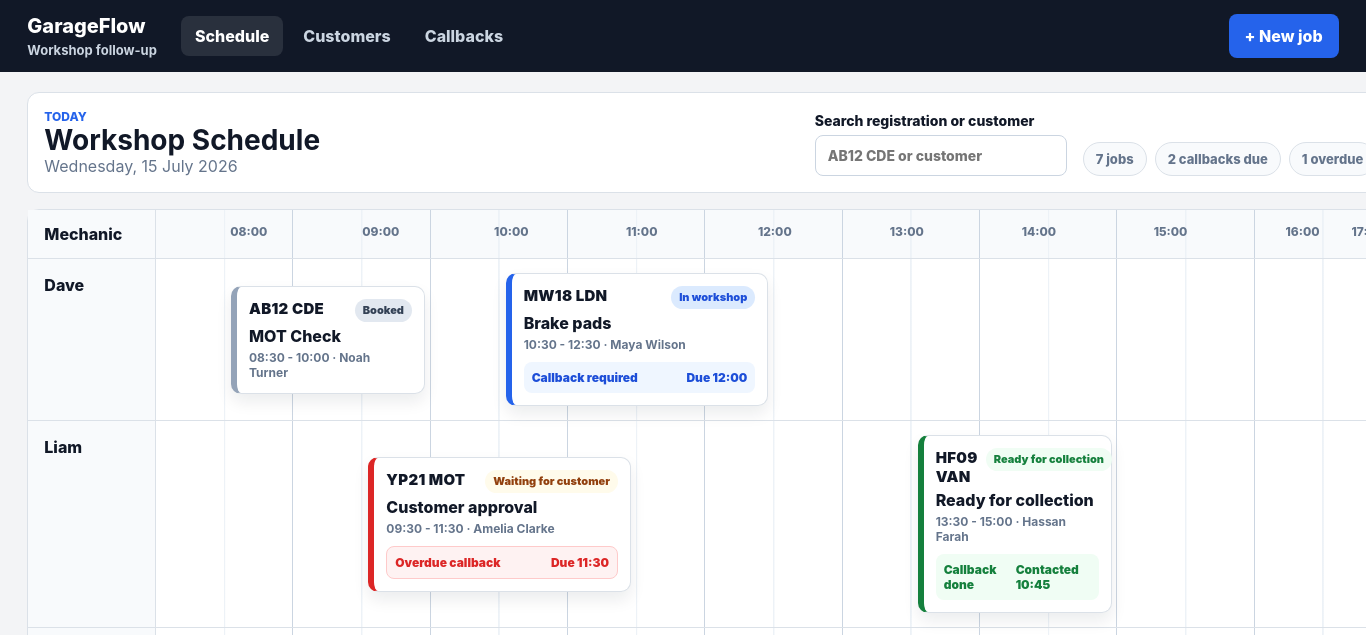
WorkshopTimeline › runs contextual status workflow actions
Expected: the header named "GarageFlow workspace" is shown, [0,0,1365,72]
Click the button "AB12 CDE Booked MOT Check 08:30 - 10:00 · Noah Turner". click: {"x": 330, "y": 339}
box: [249,299,412,380]
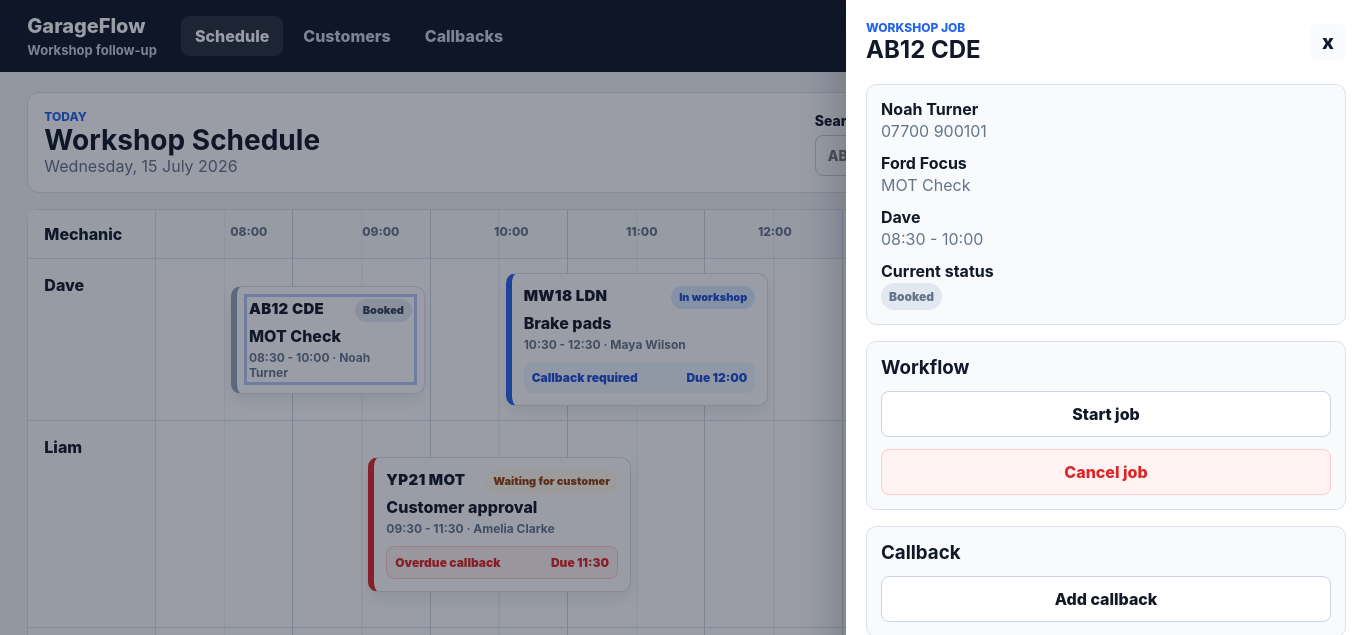
Click the button "Start job". click: {"x": 1106, "y": 414}
box: [881,391,1331,437]
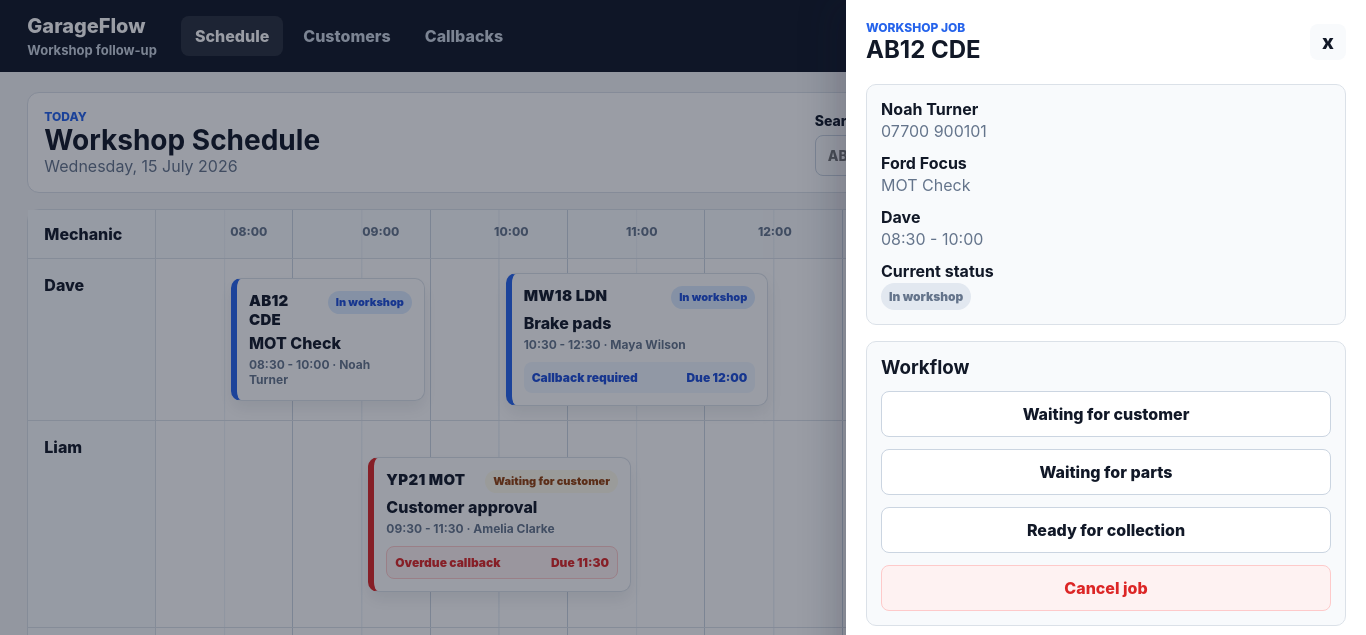
Result: the element named "Job details" shows "In workshop" at [889,289,963,304]
Click the button "Waiting for customer". click: {"x": 1106, "y": 414}
box: [881,391,1331,437]
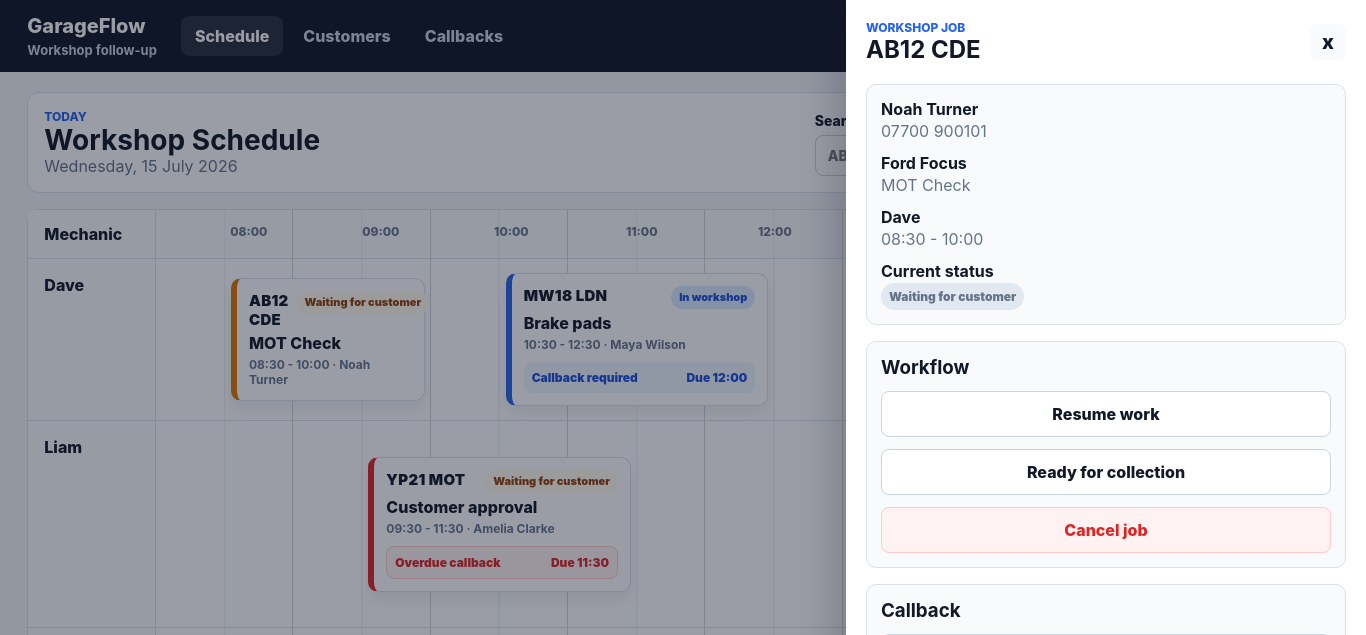
Result: the element named "Job details" shows "Waiting for customer" at [889,289,1016,304]
Click the button "Resume work". click: {"x": 1106, "y": 414}
box: [881,391,1331,437]
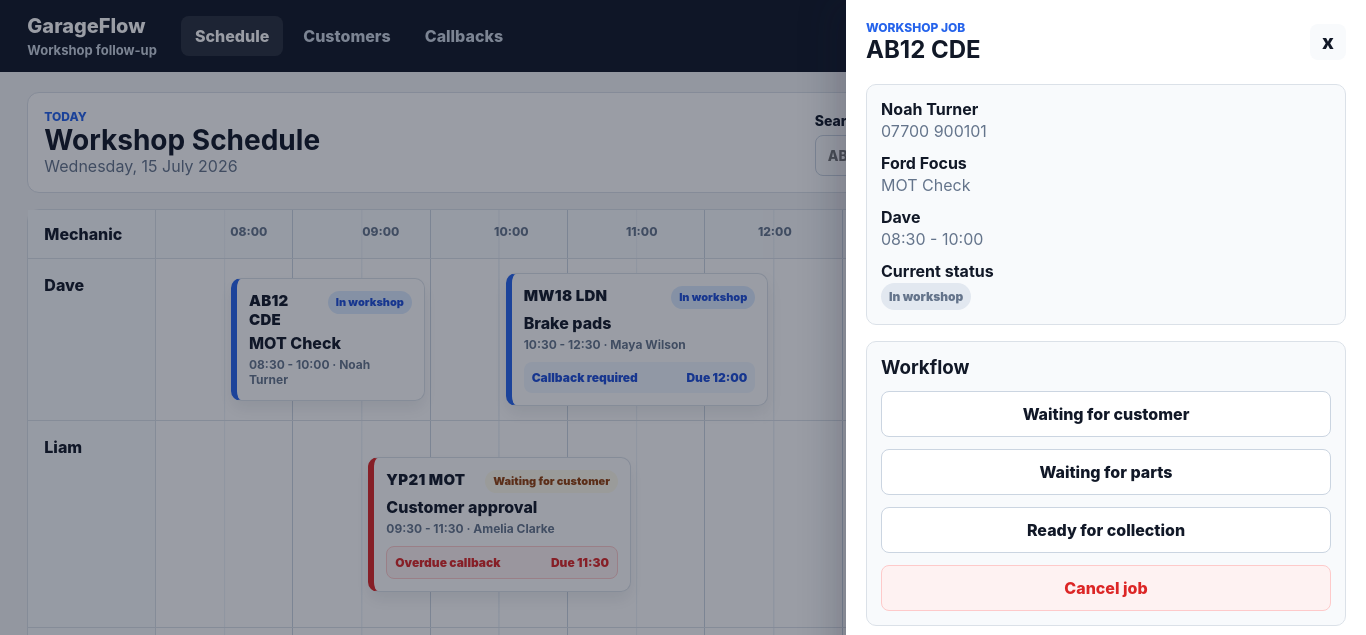
Result: the element named "Job details" shows "In workshop" at [889,289,963,304]
Click the button "Ready for collection". click: {"x": 1106, "y": 530}
box: [881,507,1331,553]
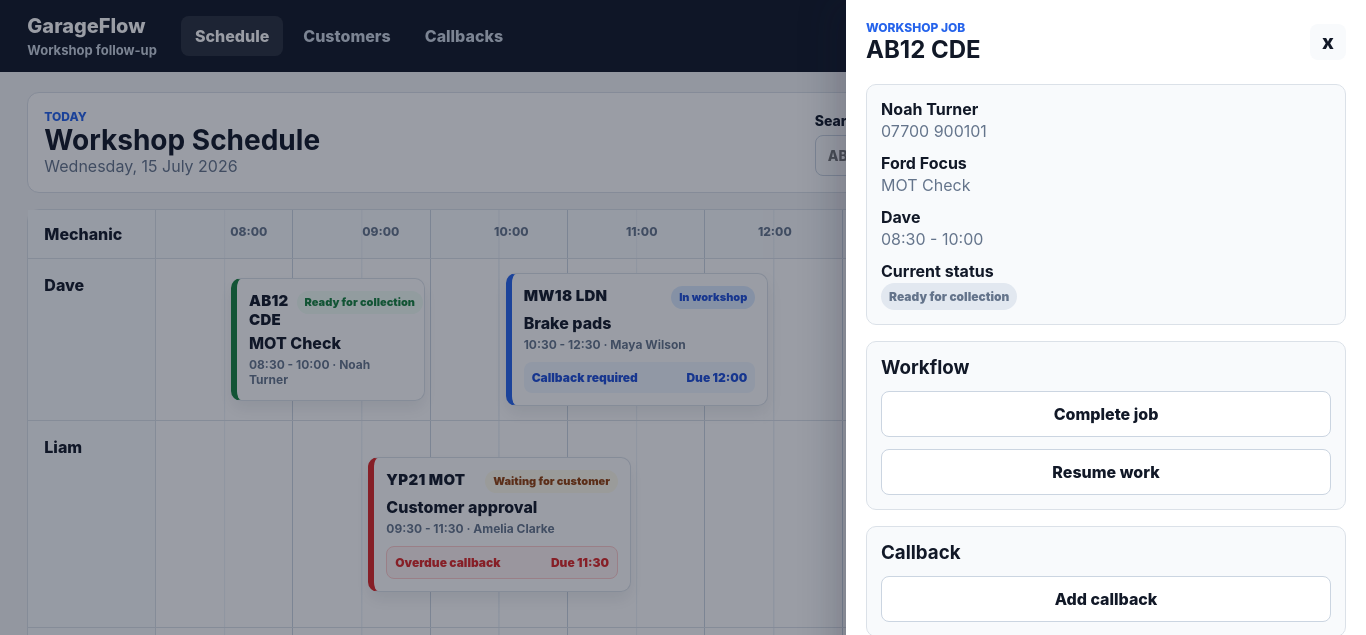
Result: the element named "Job details" shows "Ready for collection" at [889,289,1009,304]
Click the button "Complete job". click: {"x": 1106, "y": 414}
box: [881,391,1331,437]
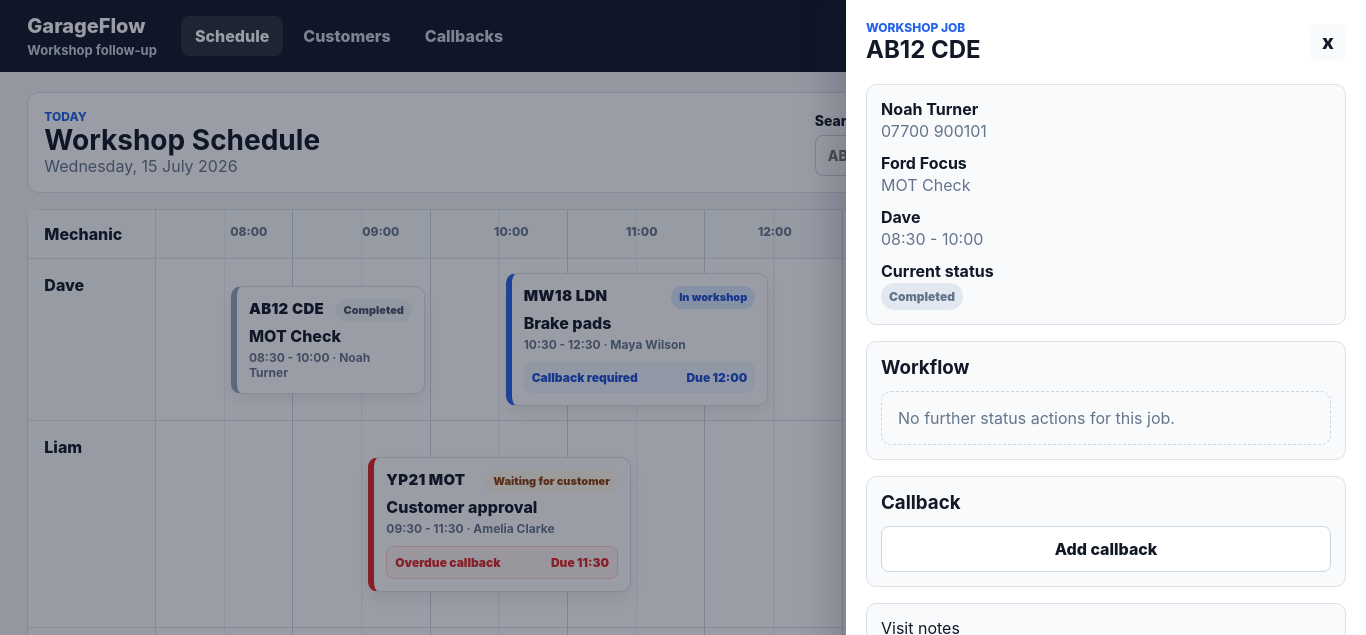
Expected: the button "Cancel job" is not shown
Result: the element named "Job details" shows "Completed" at [889,289,955,304]
